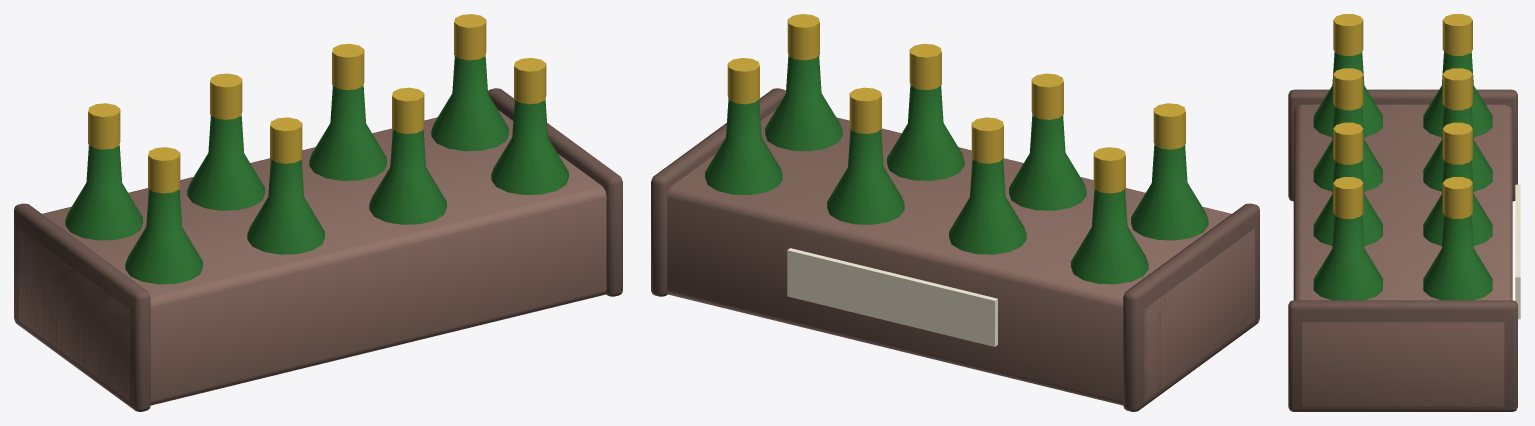
File: champagne.fbx
3 views of the same model, side by side, from view 1: azimuth 30°, elevation 25°; view 2: azimuth 150°, elevation 25°; view 3: azimuth 270°, elevation 25° (orthographic). The views are drawn at different scales.
Visible parts, largest first — view 1: Champagne Crate; view 2: Champagne Crate; view 3: Champagne Crate.
Part boxes in pixels (box(x1,y1,x2,y2)): Champagne Crate: box(14, 14, 622, 411); Champagne Crate: box(651, 14, 1259, 411); Champagne Crate: box(1288, 14, 1520, 411).
Size of the model in its own units: 1.88 by 0.82 by 0.85.
